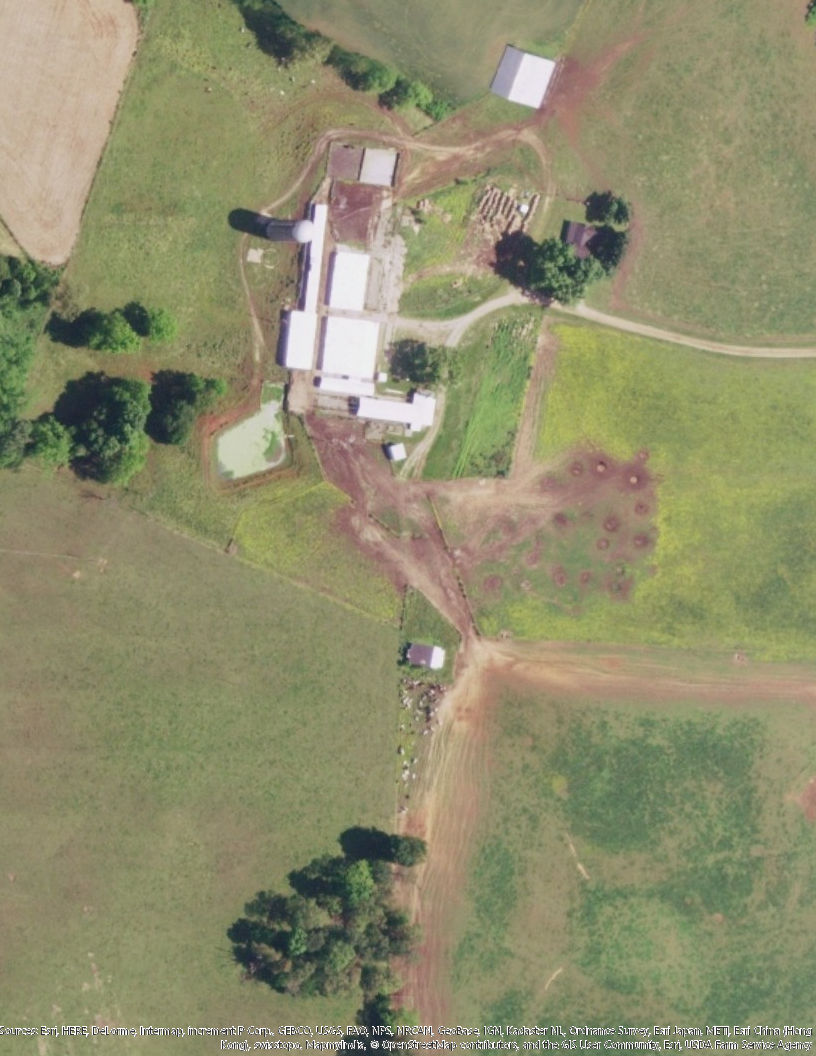cafo: (266, 199, 389, 397), (359, 385, 443, 437)
